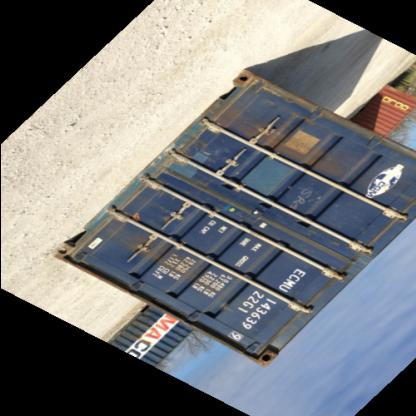Damage: (129, 238, 199, 280), (178, 132, 219, 170), (238, 72, 286, 102), (245, 116, 282, 144), (250, 336, 276, 368)
